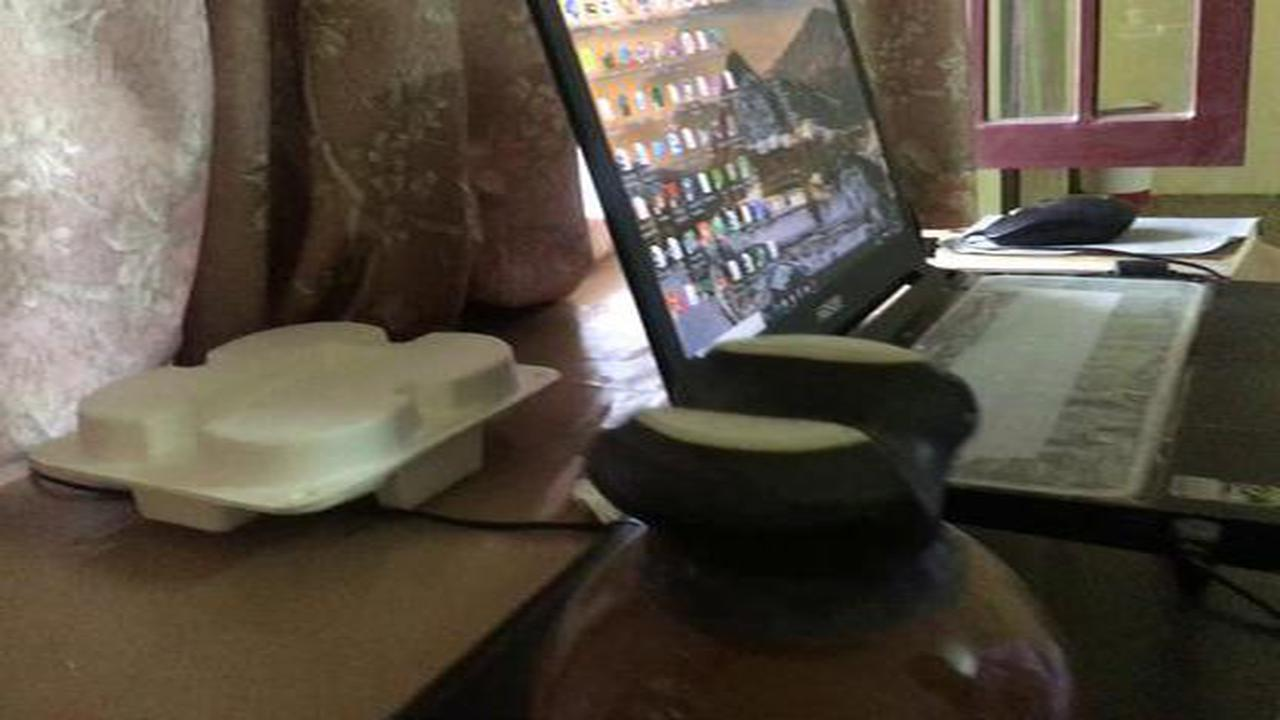insulator_pin: (508, 309, 1105, 719)
